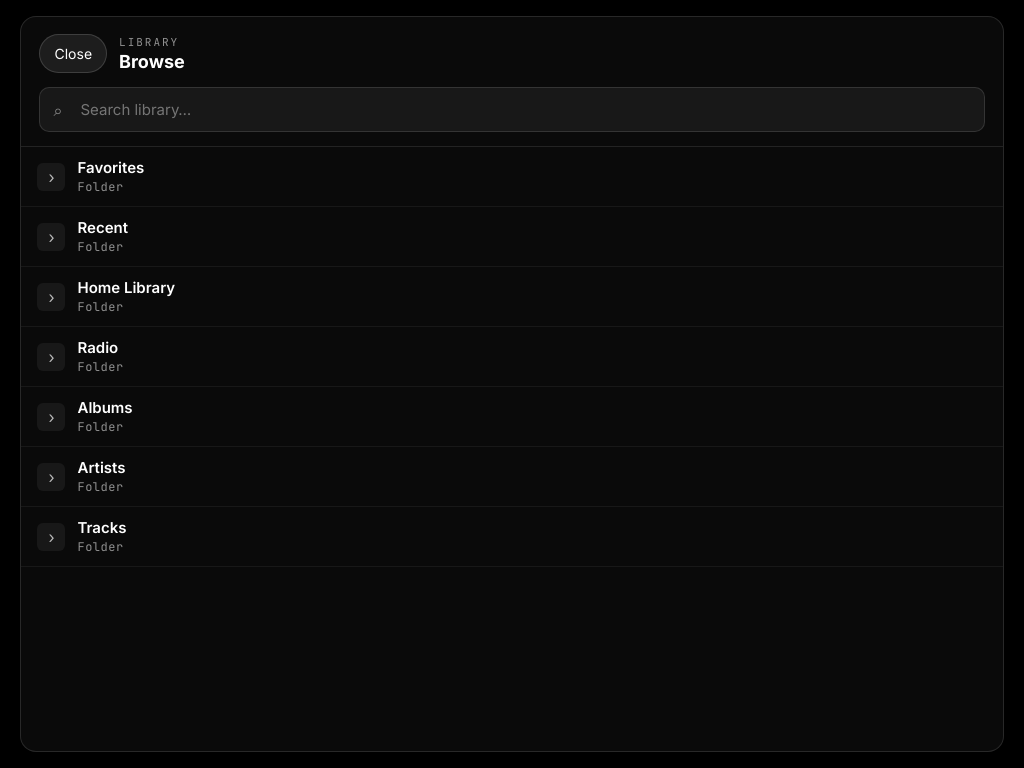
Scenario: LibraryDrawer · offline (homelab unreachable) › dims album tiles that aren't on the boombox and drops their quick-play
The image size is (1024, 768).
Step 1. Click the text "Home Library" → (126, 288), box top-left (78, 278), bottom-right (175, 297)
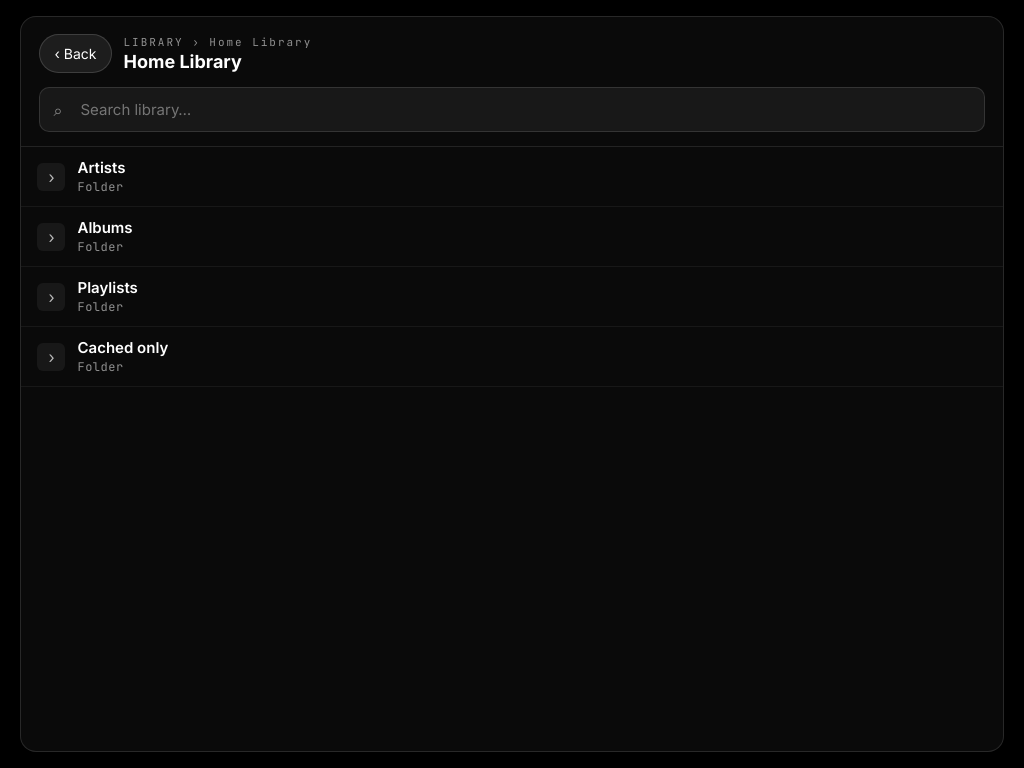
Step 2. Click the text "Albums" → (105, 228), box top-left (78, 218), bottom-right (133, 237)
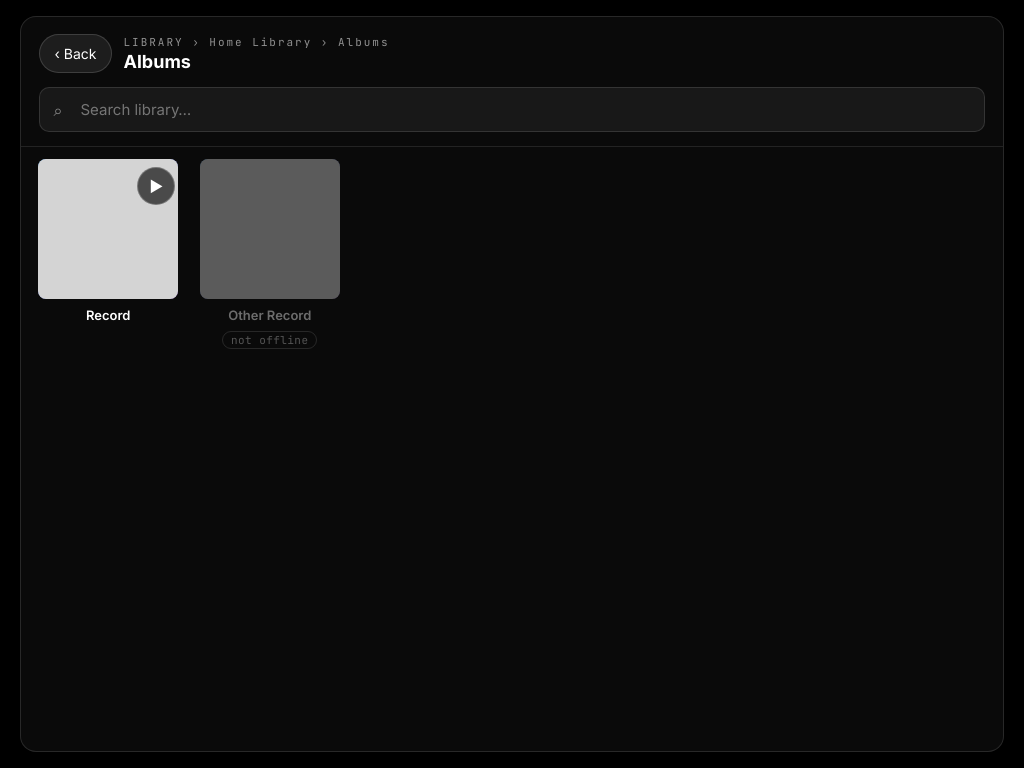
Expected: the text "Other Record" is shown, top-left (228, 307), bottom-right (311, 323)
Expected: the text "Other Record" shows "not offline", top-left (231, 333), bottom-right (308, 347)
Expected: the button named "Play Record" is shown, top-left (137, 167), bottom-right (175, 205)
